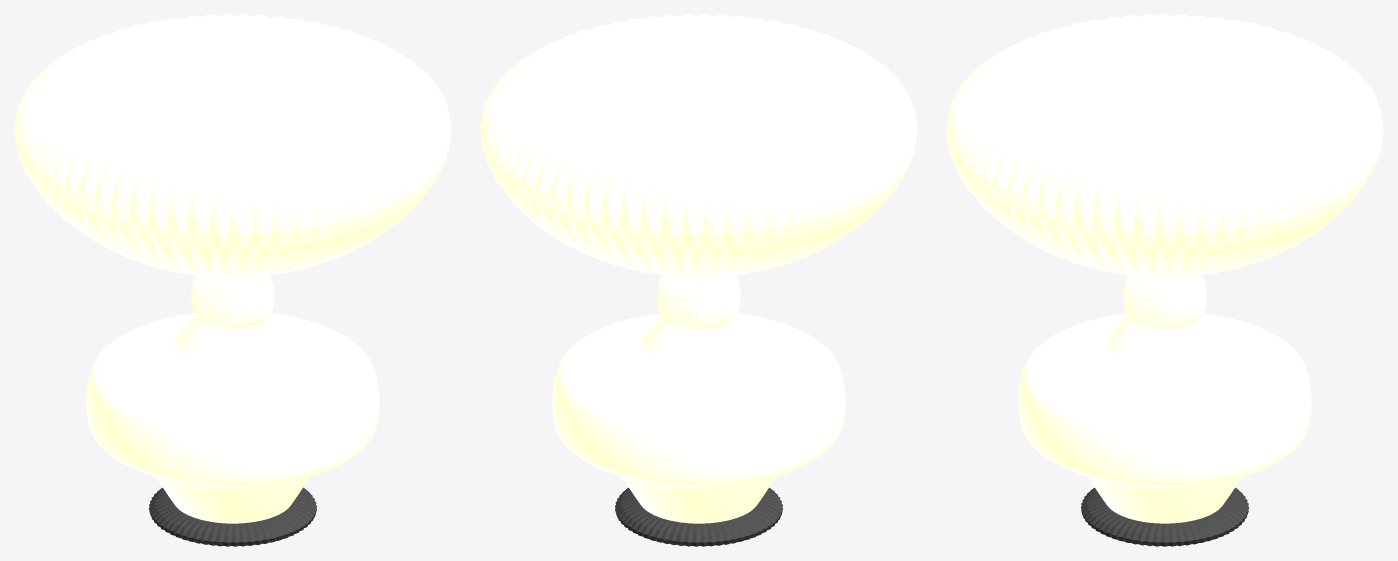
3 views of the same model, side by side, from view 1: azimuth 30°, elevation 25°; view 2: azimuth 150°, elevation 25°; view 3: azimuth 270°, elevation 25° (orthographic).
Size of the model in its own units: 2.46 by 2.89 by 2.46.
